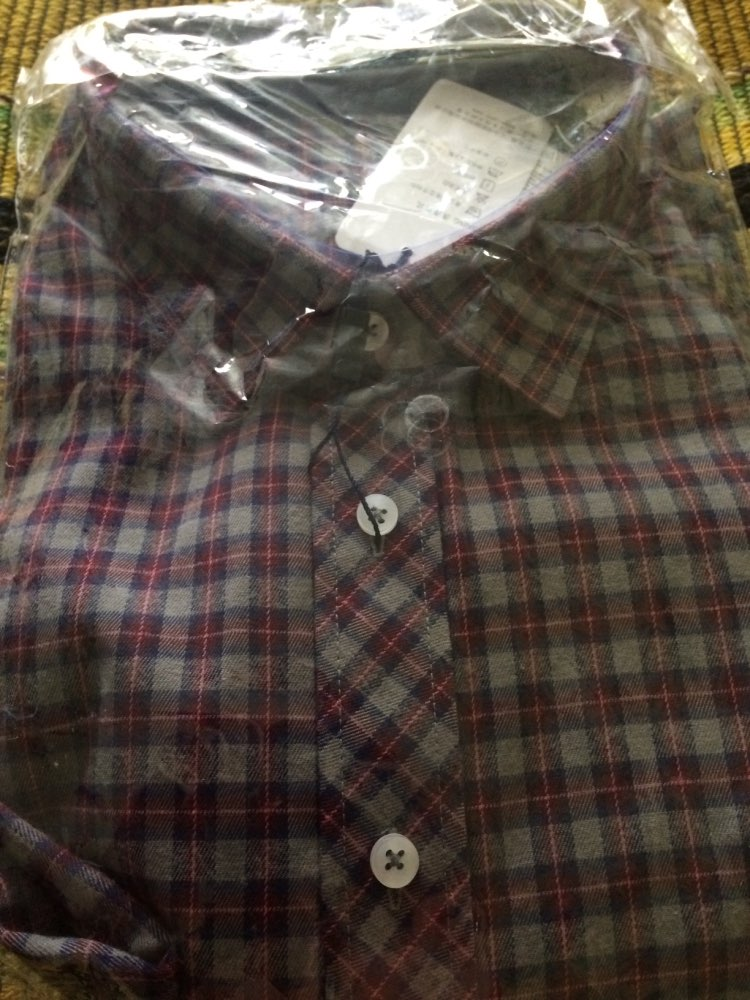shirts: (70, 79, 750, 953)
